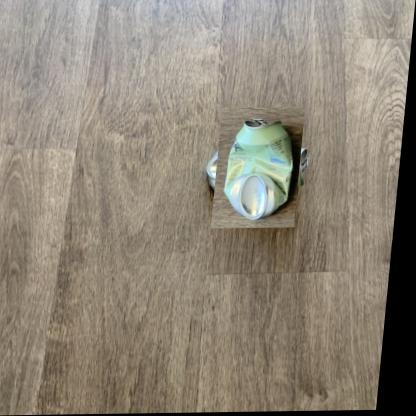trash: (224, 119, 292, 219)
